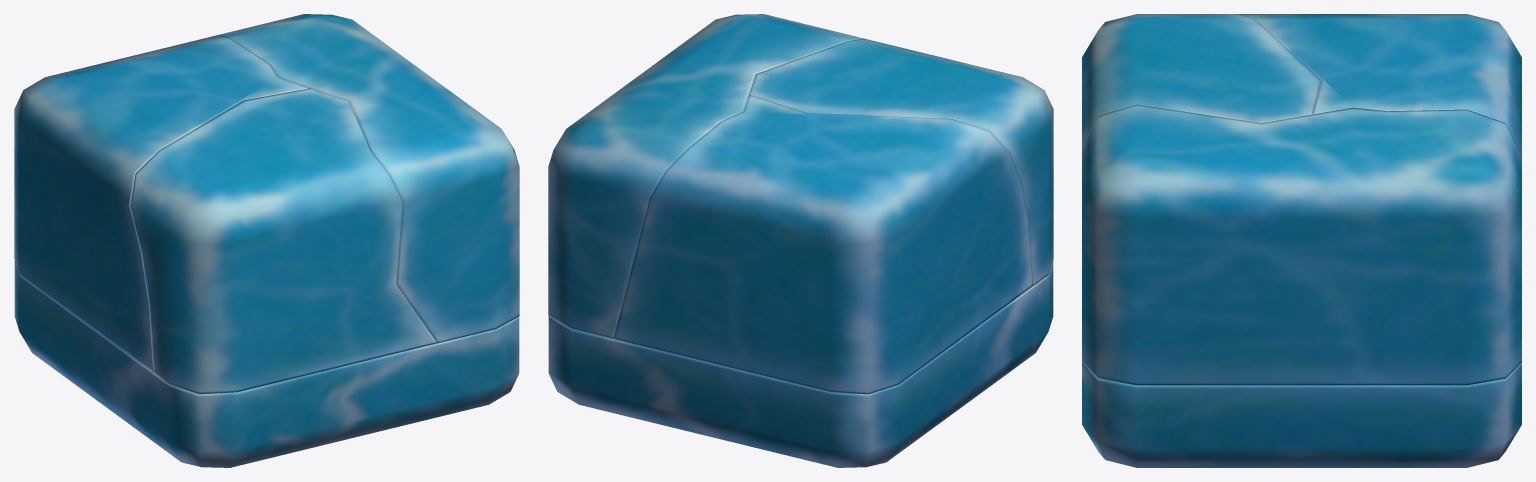
Rendered from ice.fbx.
3 views of the same model, side by side, from view 1: azimuth 30°, elevation 25°; view 2: azimuth 150°, elevation 25°; view 3: azimuth 270°, elevation 25° (orthographic). The views are drawn at different scales.
Parts seen in each view (by area): view 1: shard3, shard4, shard2, shard1; view 2: shard4, shard1, shard2, shard3; view 3: shard2, shard1, shard4, shard3.
Part boxes in pixels (x1=…): shard3: x1=130, y1=88, x2=437, y2=394; shard4: x1=14, y1=35, x2=308, y2=372; shard2: x1=217, y1=14, x2=519, y2=343; shard1: x1=14, y1=260, x2=519, y2=467; shard4: x1=613, y1=95, x2=1033, y2=394; shard1: x1=548, y1=260, x2=1053, y2=467; shard2: x1=548, y1=14, x2=863, y2=338; shard3: x1=749, y1=38, x2=1053, y2=285; shard2: x1=1082, y1=104, x2=1521, y2=385; shard1: x1=1082, y1=362, x2=1521, y2=467; shard4: x1=1239, y1=14, x2=1521, y2=153; shard3: x1=1082, y1=14, x2=1320, y2=145.
Size of the model in its own units: 97.81 by 74.56 by 97.81.
